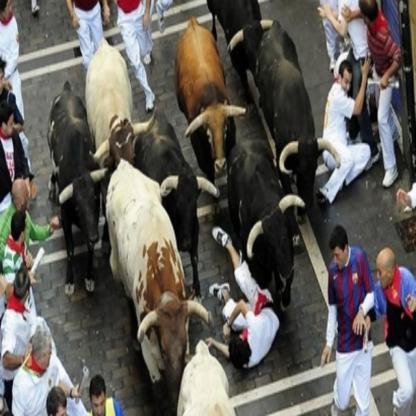face: (377, 263, 390, 291), (92, 391, 106, 416), (334, 248, 347, 271), (342, 71, 353, 97), (42, 340, 52, 367), (5, 1, 13, 23), (1, 69, 7, 96), (8, 114, 15, 137), (24, 185, 30, 210)
